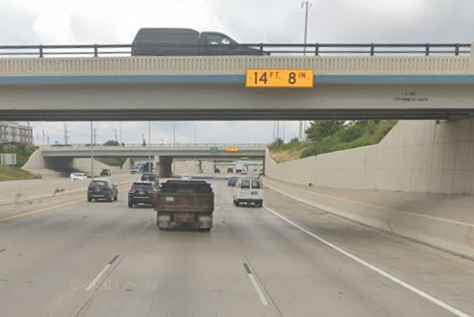1: (250, 70, 258, 86)
4: (258, 70, 270, 86)
8: (285, 70, 298, 86)
overheadsign: (244, 67, 315, 89)
